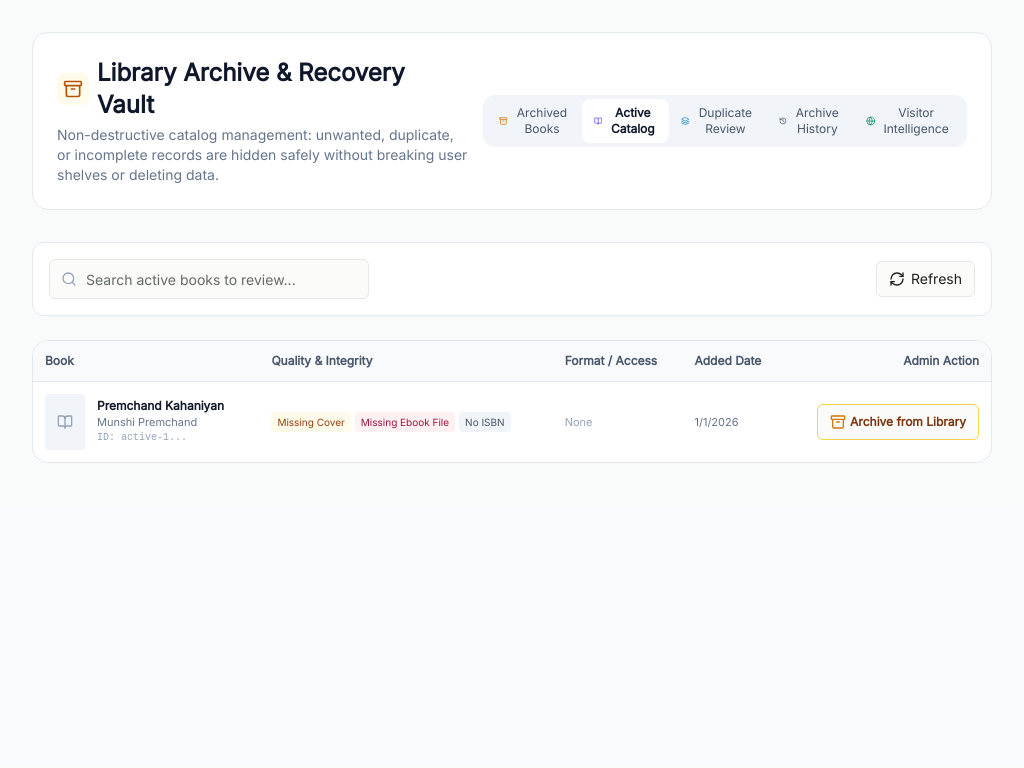
Scenario: AdminLibraryArchive › switches to active catalog, renders active books and triggers archive modal flow
This screenshot has width=1024, height=768.
Later steps or results of the test are not shown.
Expected: the text "Premchand Kahaniyan" is shown, [97,398,224,414]
Expected: the text "Munshi Premchand" is shown, [97,415,197,429]
Click the button "Archive from Library": click(898, 422) [817,404,979,440]
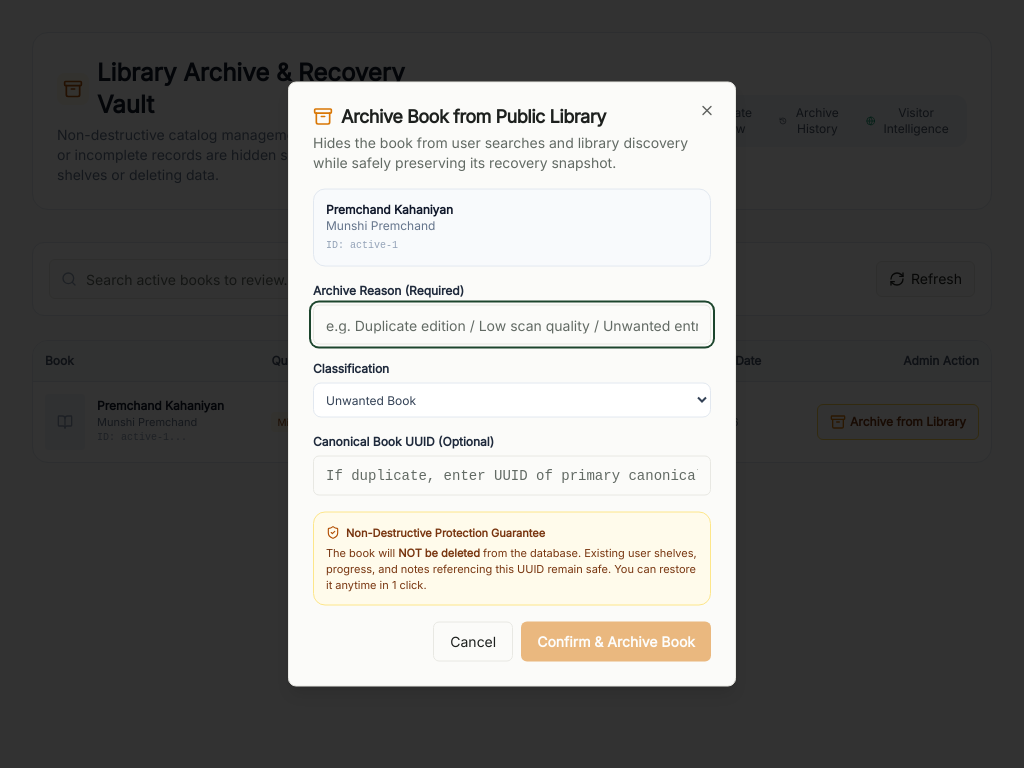
Expected: the heading "Archive Book from Public Library" is shown, [313,106,606,126]
